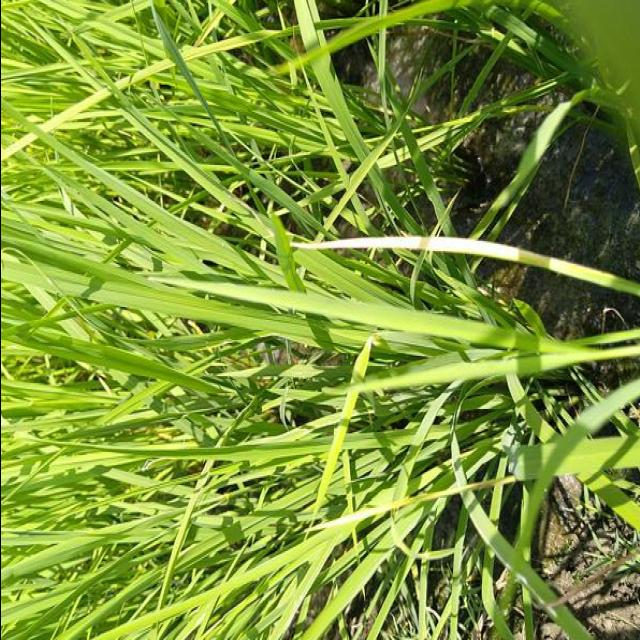Leaf Blight: (292, 235, 640, 297)
